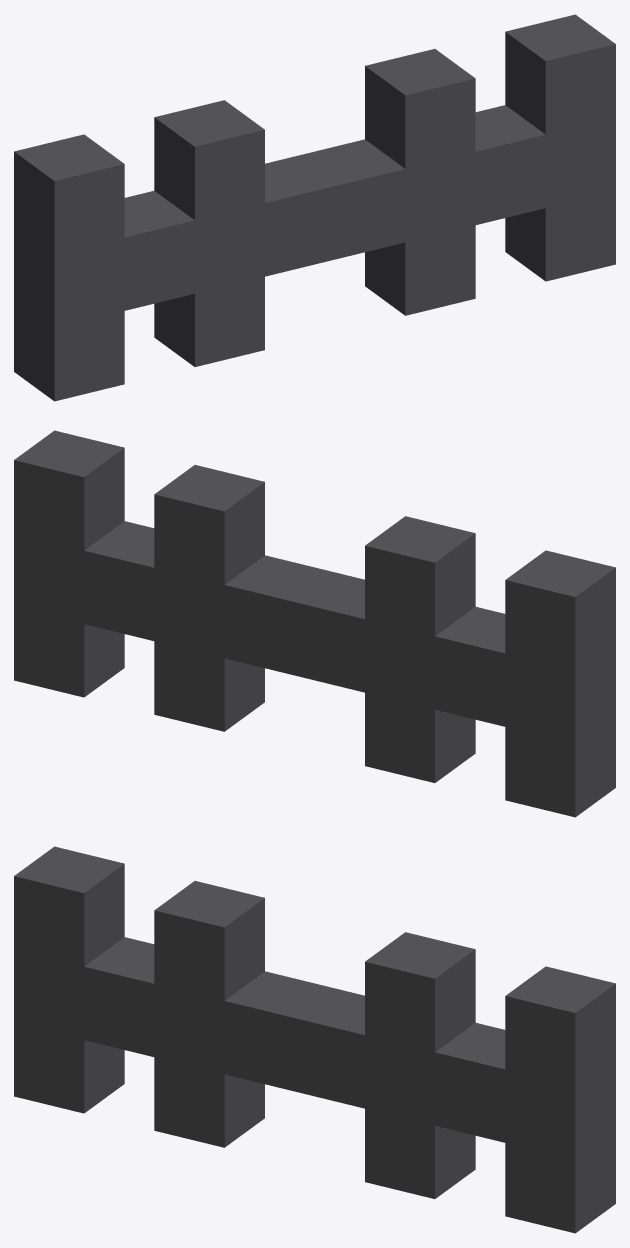
File: tavern-9-fireplace_grate.obj
The picture shows the model from 3 angles, top to bottom: view 1: azimuth 30°, elevation 25°; view 2: azimuth 150°, elevation 25°; view 3: azimuth 330°, elevation 25°; orthographic projection.
Visible parts, largest first — view 1: fireplace_grate; view 2: fireplace_grate; view 3: fireplace_grate.
Boxes of the visible parts, x1,y1,x2,y2 form: fireplace_grate: (14, 14, 615, 401); fireplace_grate: (14, 430, 615, 817); fireplace_grate: (14, 846, 615, 1233).
Size of the model in its own units: 0.8 by 0.3 by 0.1.
Materials: 1 (1 with a texture image).
